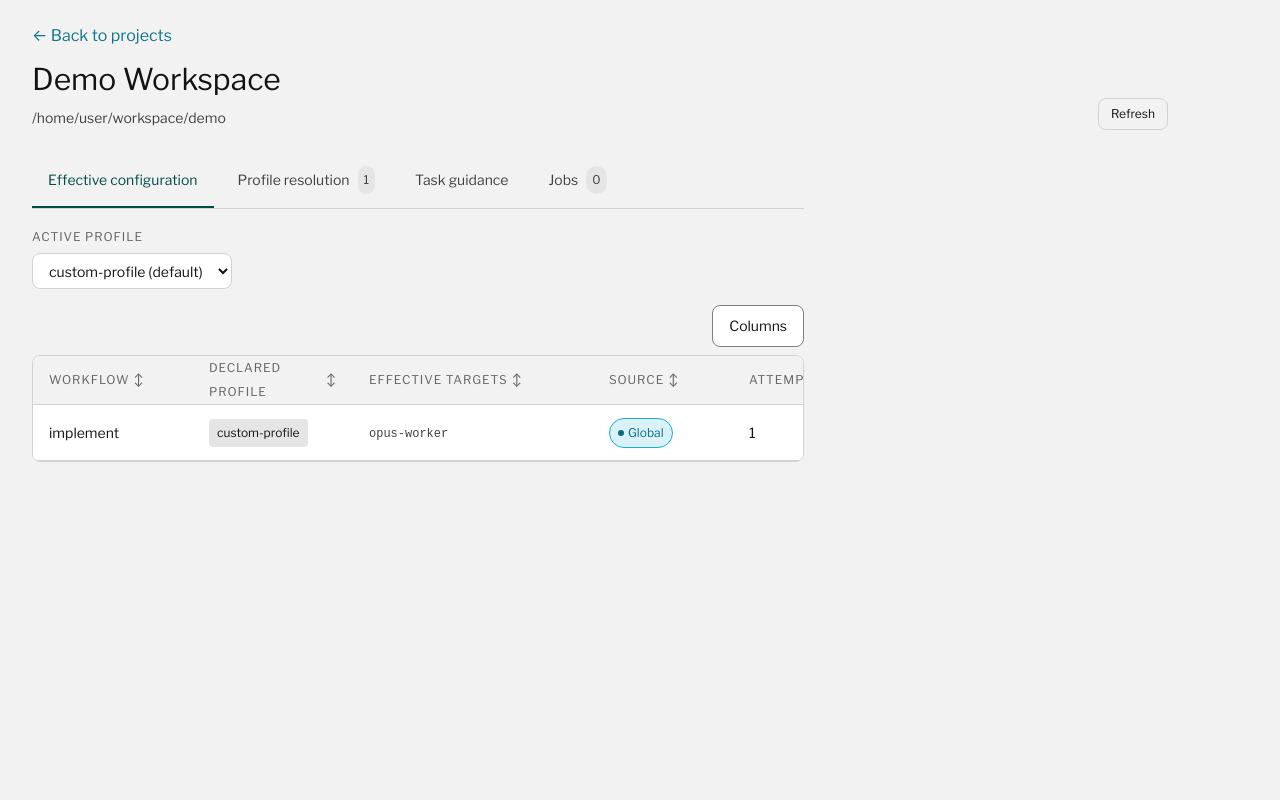
it: ProjectDetail screen › uses server inherited classification for overlapping self-extension rows
Click the text "implement" at (483, 432), box [33,404,933,460]
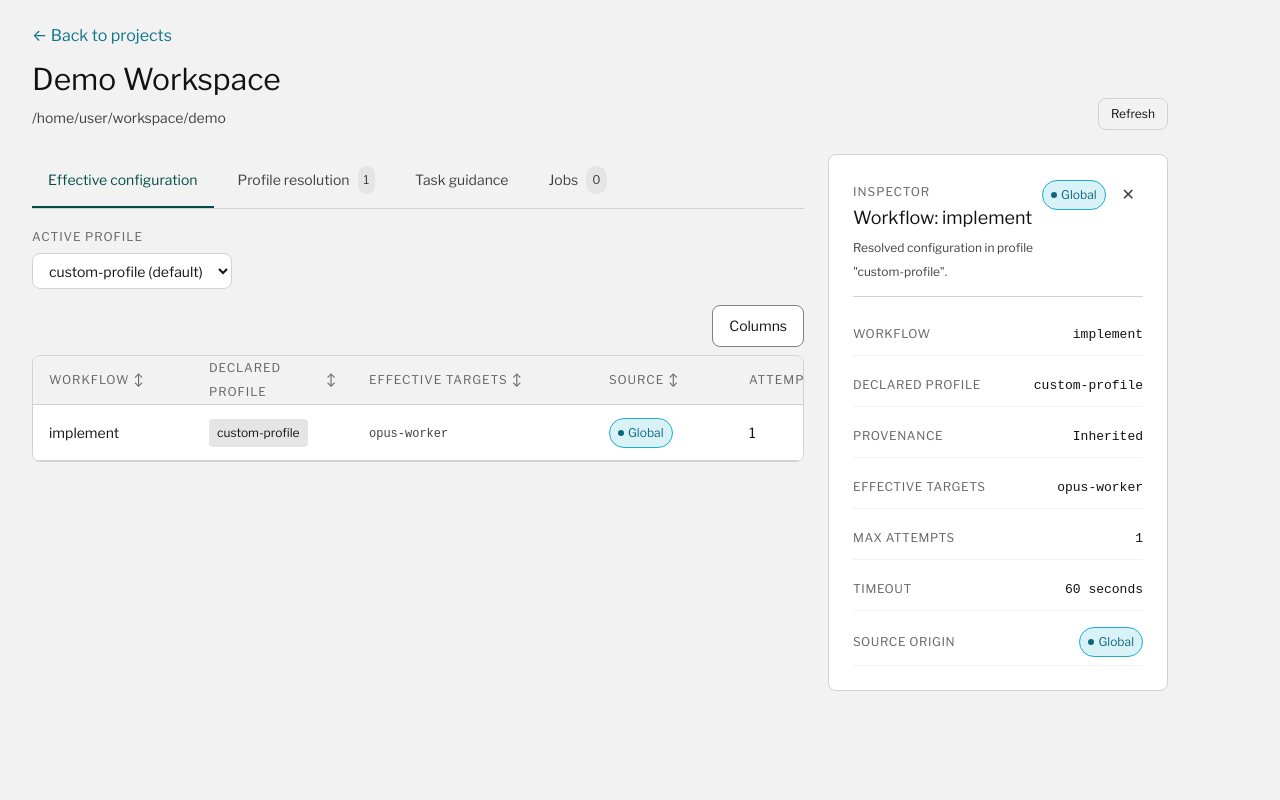
Result: the text "Inherited" is shown at [1073,429,1143,444]
